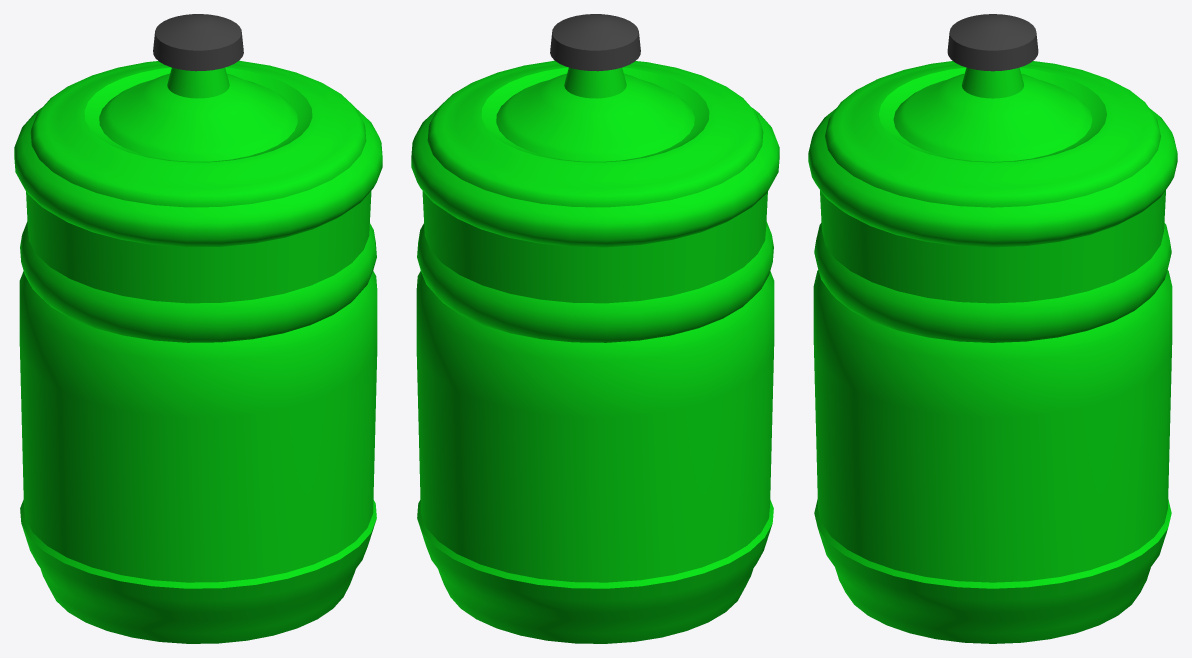
File: bottle32.glb
3 views of the same model, side by side, from view 1: azimuth 30°, elevation 25°; view 2: azimuth 150°, elevation 25°; view 3: azimuth 270°, elevation 25° (orthographic).
Parts seen in each view (by area): view 1: Bottle32; view 2: Bottle32; view 3: Bottle32.
Part boxes in pixels (x1,y1,x2,y2): Bottle32: (14,14,382,643); Bottle32: (411,14,779,643); Bottle32: (808,14,1177,643).
Bounding box in the file's own units: 0.6309 × 1.06 × 0.6309.
